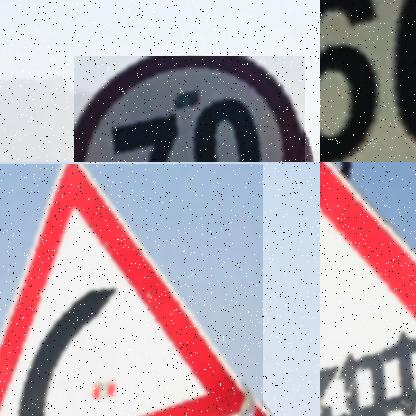Railway Crossing: (320, 162, 416, 416)
Right bend: (0, 164, 262, 416)
Speed Limit -60 kmph-: (320, 0, 416, 162)
Speed Limit -70 kmph-: (75, 56, 304, 162)
